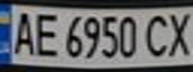0: (118, 12, 142, 60)
5: (100, 12, 121, 60)
6: (60, 12, 84, 60)
9: (78, 12, 103, 60)
A: (6, 8, 39, 56)
C: (142, 11, 172, 58)
E: (30, 9, 63, 57)
X: (163, 9, 193, 58)
